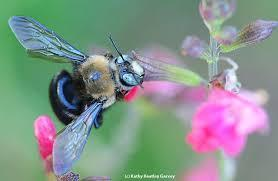Xylocopa: (5, 6, 151, 172)
